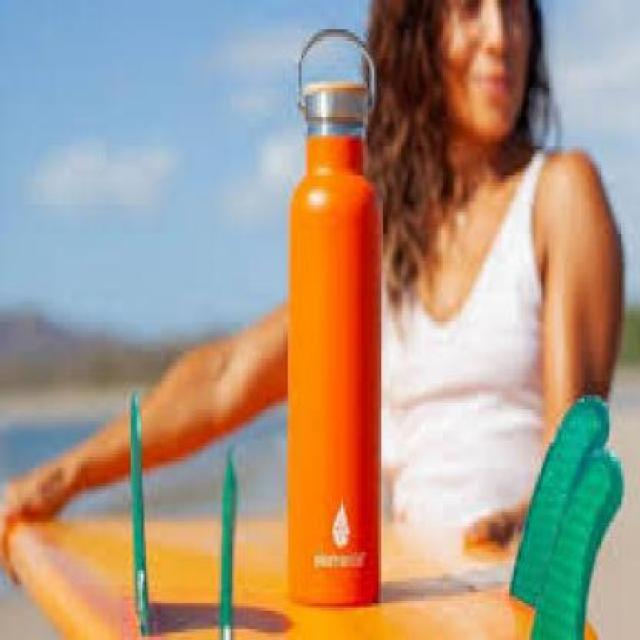Drinking: (274, 40, 394, 622)
